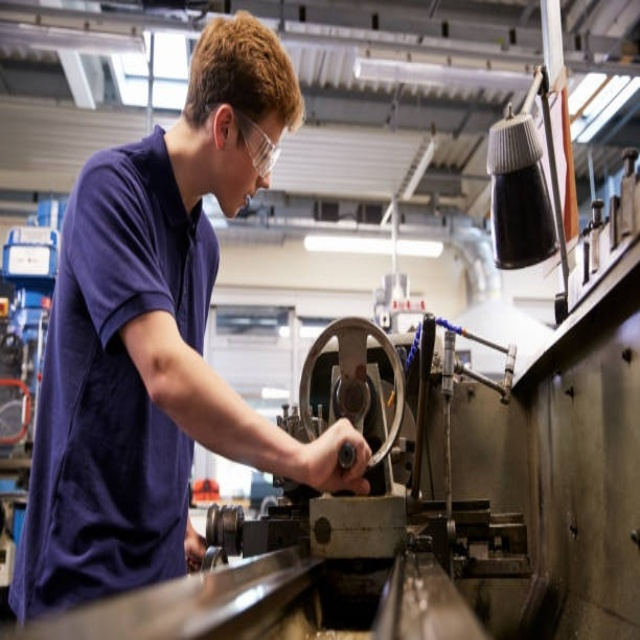Gafas: (214, 104, 282, 179)
Sin_guantes: (311, 418, 375, 490), (184, 514, 209, 574)
Sin_mascara: (227, 187, 260, 223)
